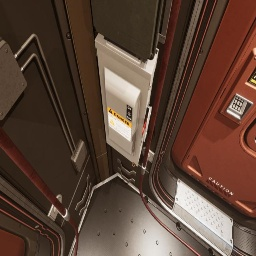SafetySwitchPanel ,: (94, 33, 159, 167)
